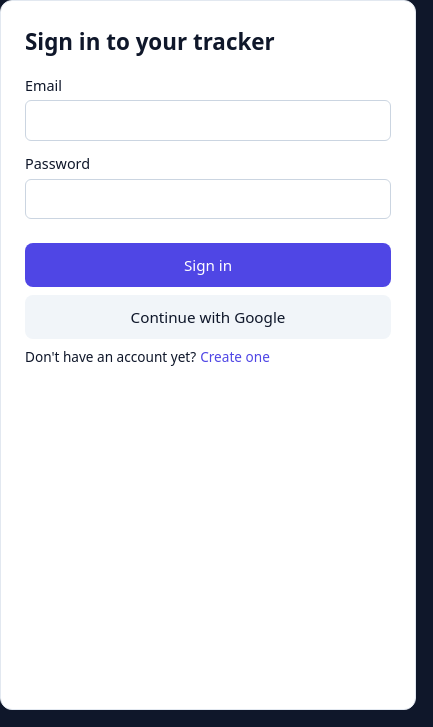
AuthPage › shows friendly error on failed signup
The image size is (433, 727).
Click the button "Create one": click(235, 358) [200,347,270,368]
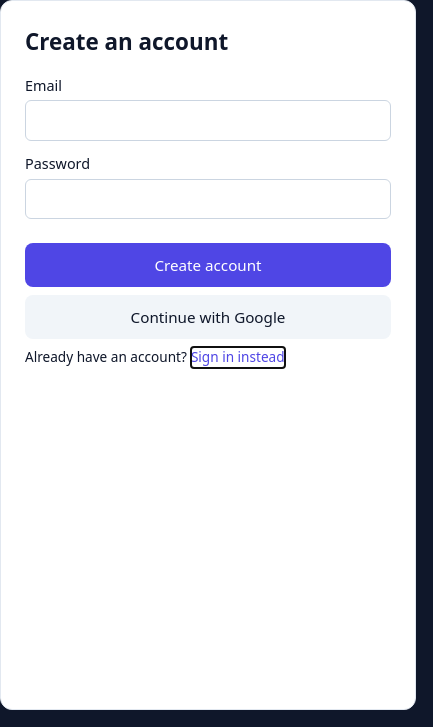
In the field labelled "Email": (208, 121) [25,100,391,141], type "test@example.com"
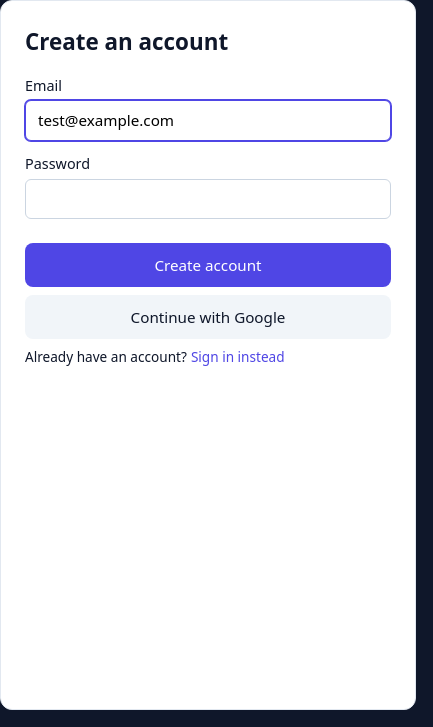
In the password field labelled "Password": (208, 199) [25,179,391,219], type "password123"
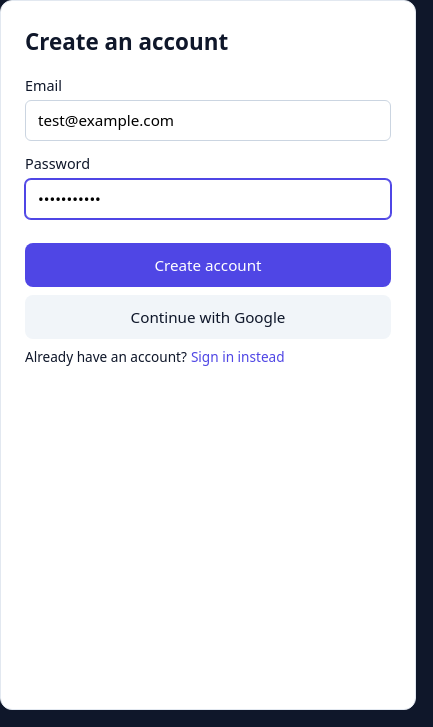
Click the button "Create account": click(208, 265) [25,243,391,287]
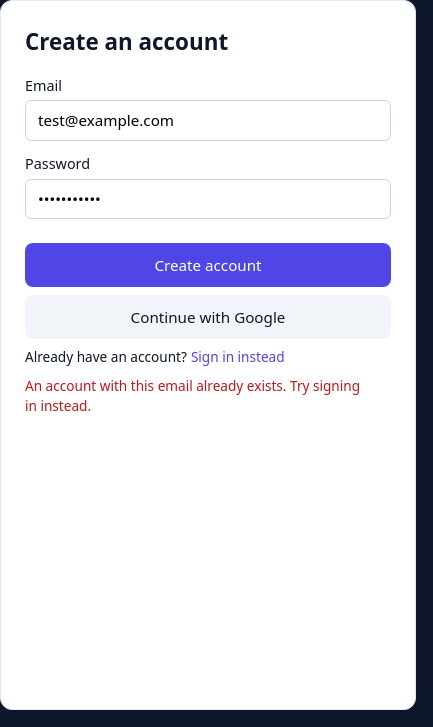
Now the text "already exists" is shown, box [25,376,360,415]
